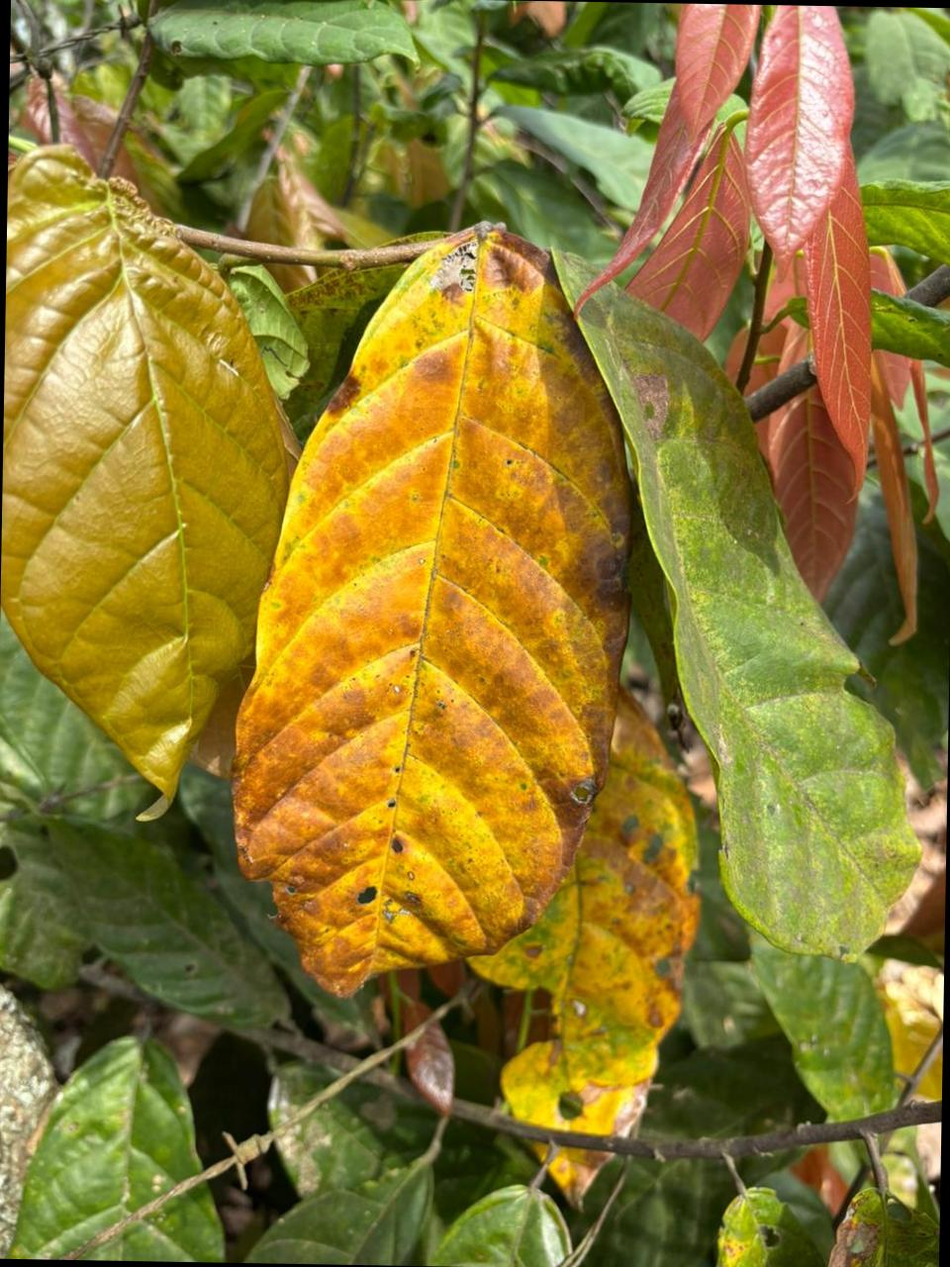Fosforo: (233, 226, 629, 994)
